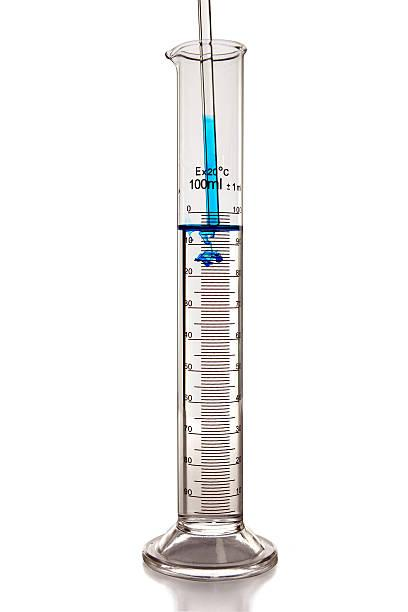Test tube: (147, 41, 283, 580)
